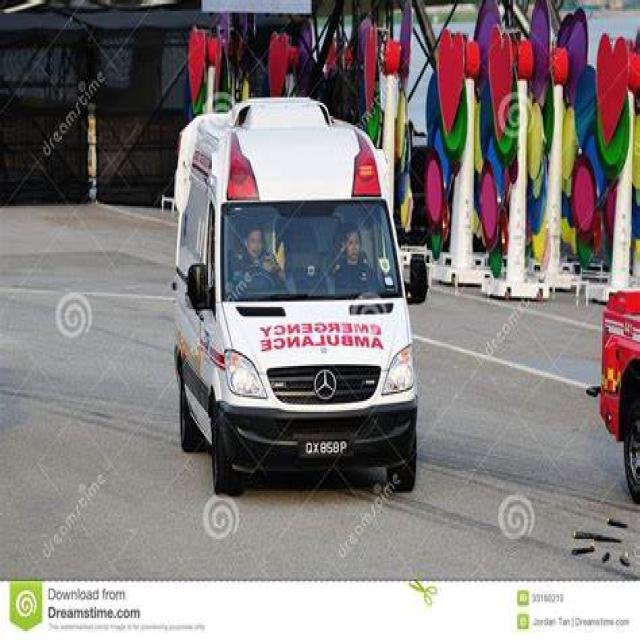ambulance: (220, 125, 382, 212)
